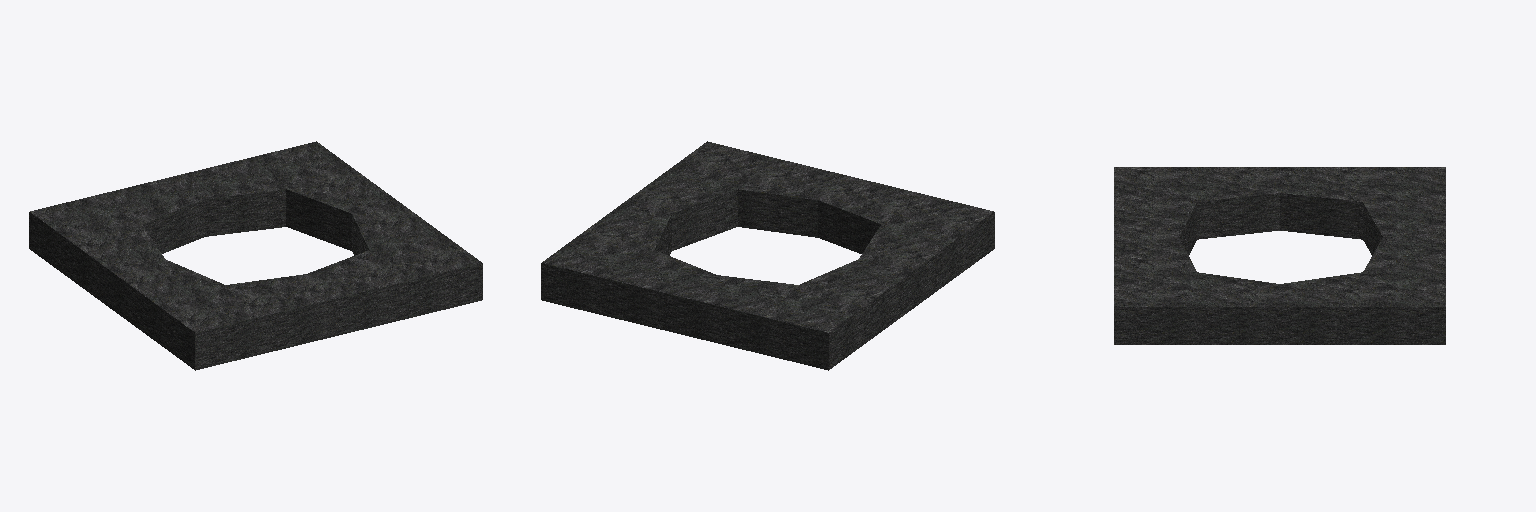
3 views of the same model, side by side, from view 1: azimuth 30°, elevation 25°; view 2: azimuth 150°, elevation 25°; view 3: azimuth 270°, elevation 25° (orthographic).
Visible parts, largest first — view 1: 立方体.008; view 2: 立方体.008; view 3: 立方体.008.
Boxes of the visible parts, x1=… form: 立方体.008: x1=29, y1=141, x2=482, y2=370; 立方体.008: x1=541, y1=141, x2=994, y2=370; 立方体.008: x1=1114, y1=167, x2=1445, y2=344.
Bounding box in the file's own units: 16 × 2 × 16.
Materials: 1 (1 with a texture image).